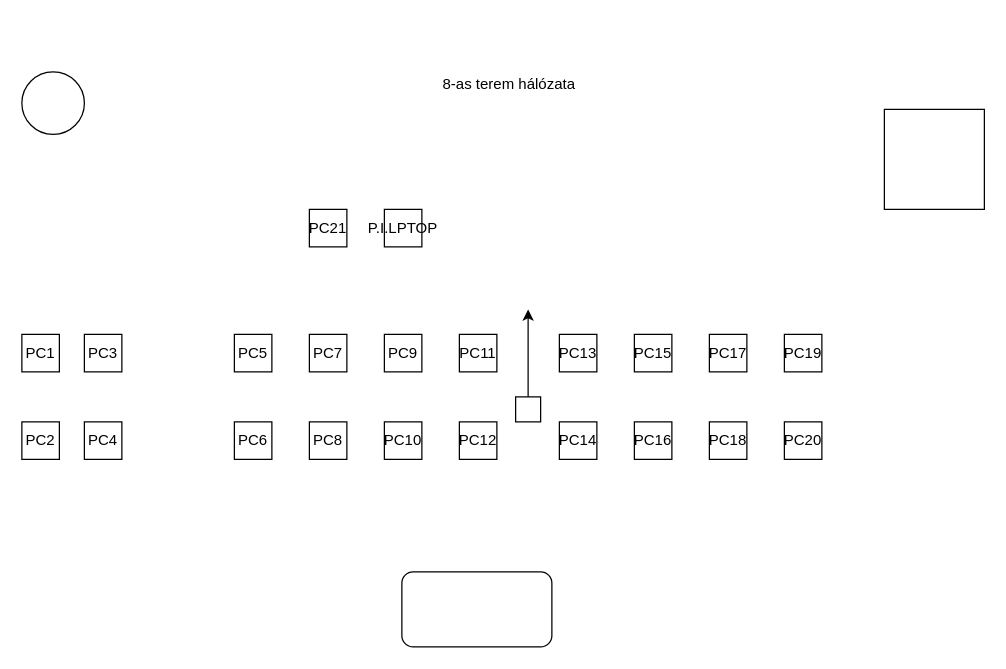
This 1006x669 diagram has some shape labels left out. The centre of each missing label's shape, as x and y in pixels:
LÉGKONDI: (x=476, y=609)
PROJEKTOR: (x=527, y=409)
R1: (x=52, y=102)
SW1: (x=933, y=158)
